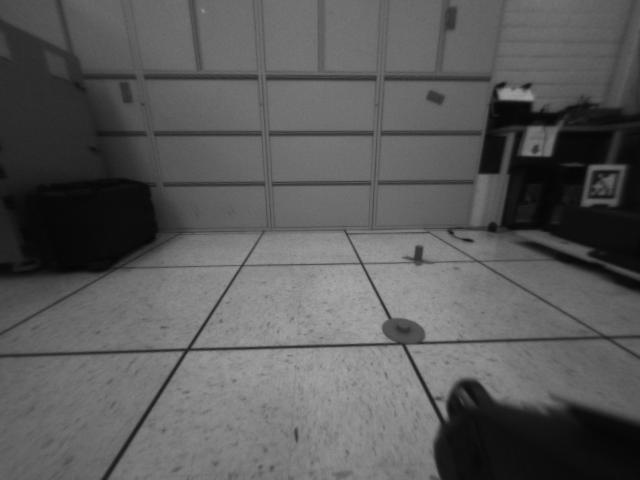X: (403, 246, 433, 266)
